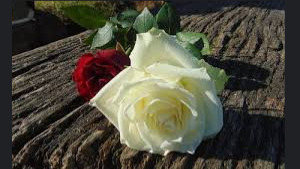RedRose: (66, 47, 128, 99)
